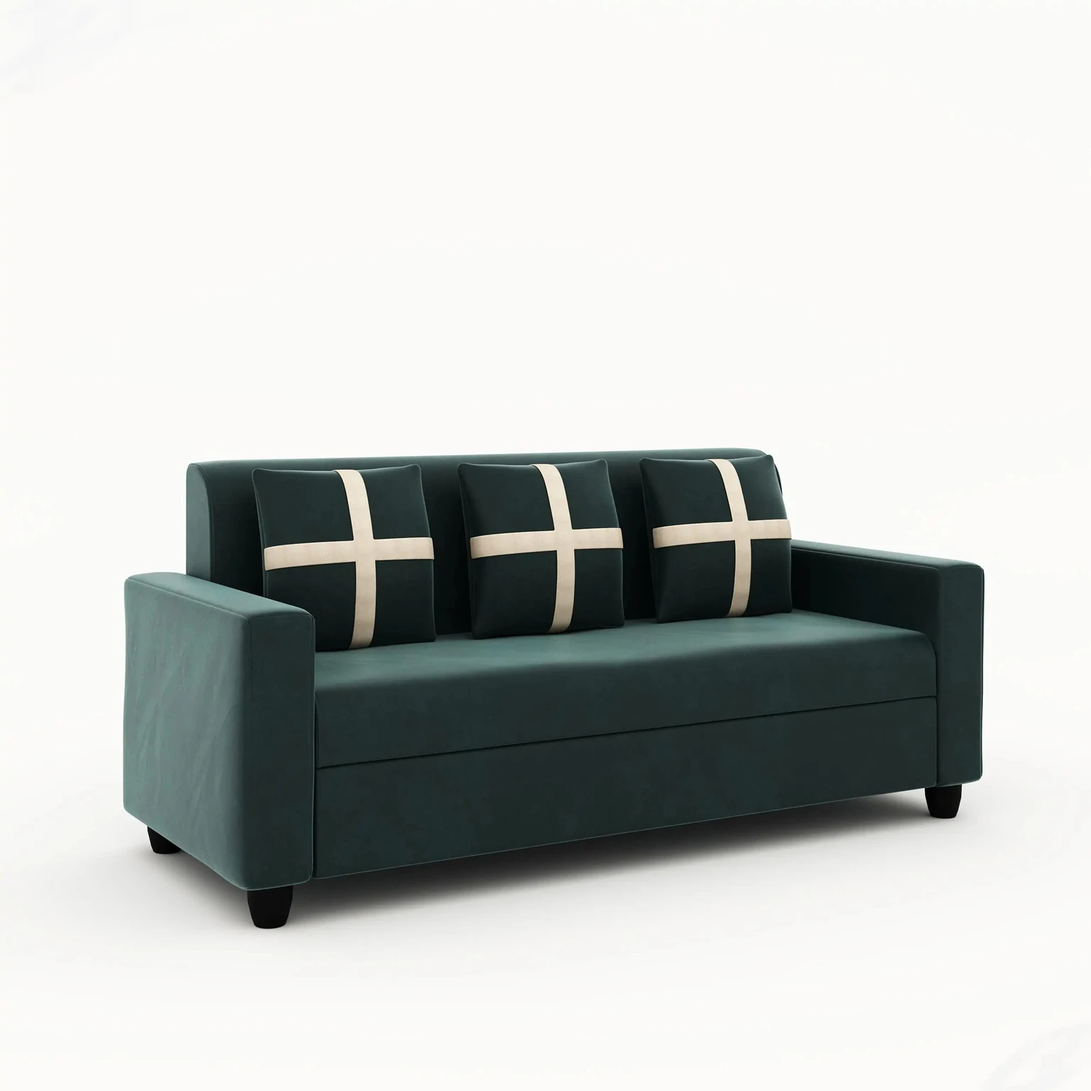3seatersofa: (123, 448, 983, 927)
backrest: (186, 448, 761, 634)
base: (313, 698, 934, 878)
leftarmrest: (792, 541, 984, 786)
leg: (247, 887, 292, 928), (926, 785, 960, 818), (148, 827, 180, 854)
pillow: (253, 465, 435, 651), (459, 460, 622, 636), (641, 455, 791, 622)
rightarmrest: (124, 573, 315, 896)
seat: (315, 612, 936, 769)
